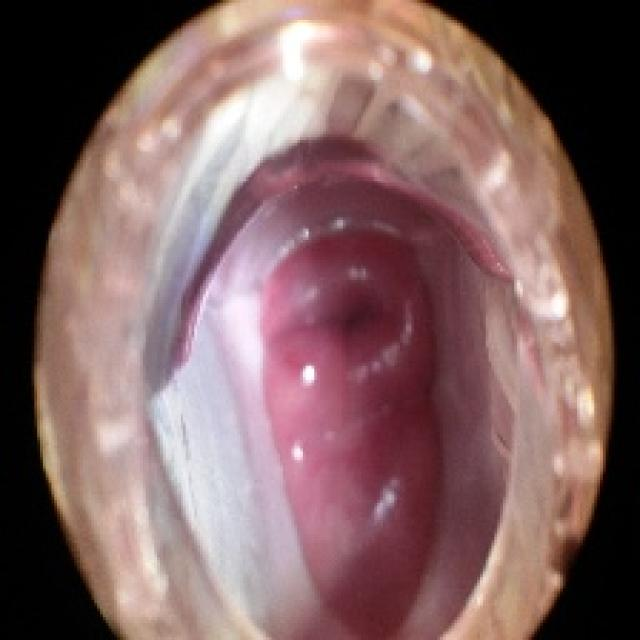type-2: (27, 0, 593, 640)
